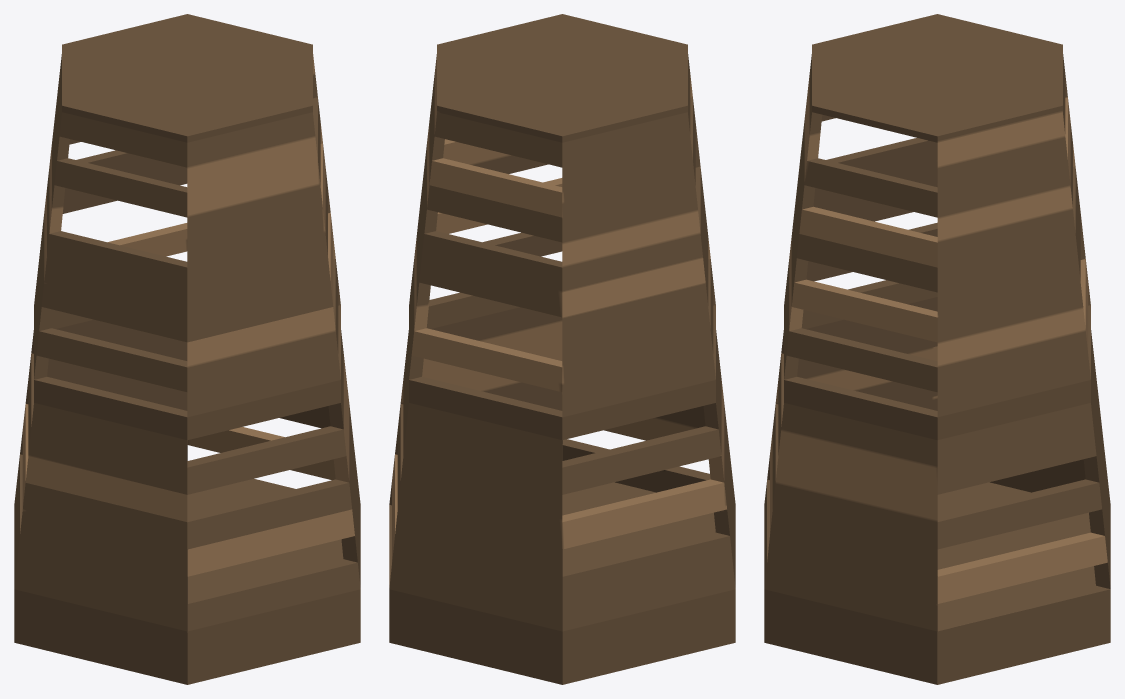
Rendered from javelin_thrower_tower.fbx.
3 views of the same model, side by side, from view 1: azimuth 30°, elevation 25°; view 2: azimuth 150°, elevation 25°; view 3: azimuth 270°, elevation 25° (orthographic).
Parts seen in each view (by area): view 1: javelin_thrower; view 2: javelin_thrower; view 3: javelin_thrower.
Boxes of the visible parts, left/top/right/bottom form: javelin_thrower: left=14, top=14, right=360, bottom=684; javelin_thrower: left=389, top=14, right=735, bottom=684; javelin_thrower: left=764, top=14, right=1110, bottom=684.
Bounding box in the file's own units: 180 × 261 × 156.
Materials: 1 (1 with a texture image).
